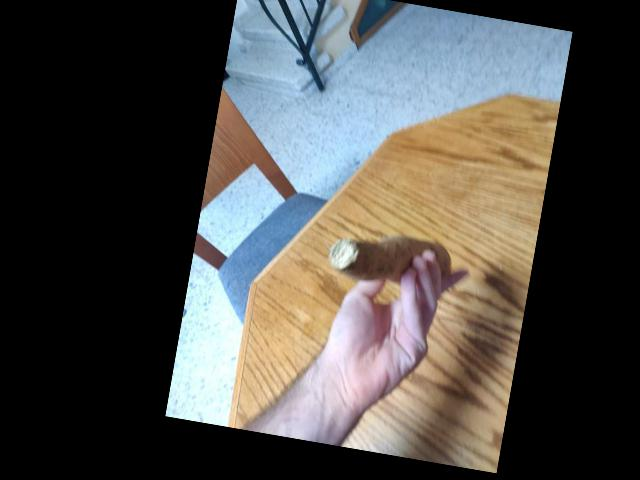sweet_potato: (346, 226, 448, 296)
